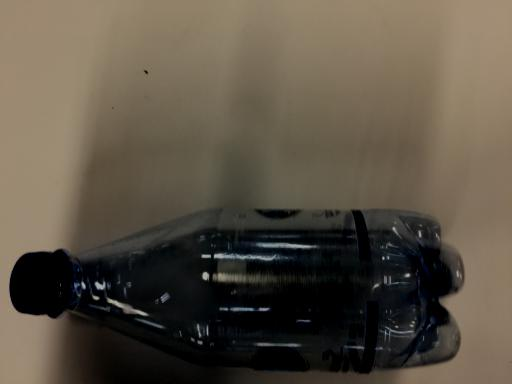bottle: (4, 204, 472, 378)
